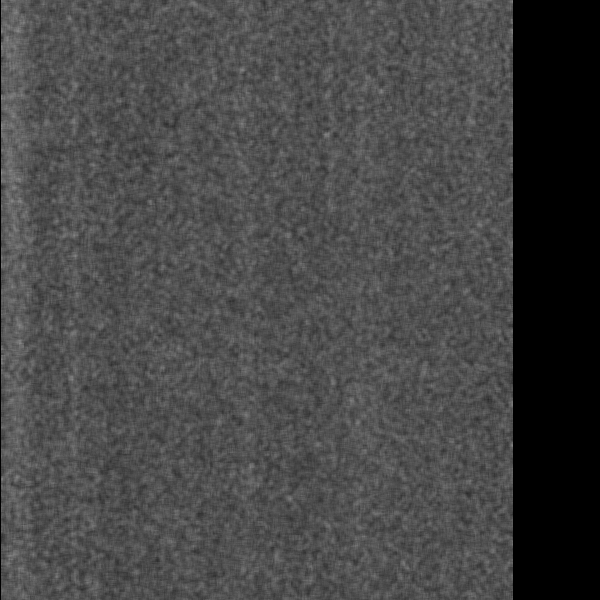spark: (374, 76, 412, 108)
